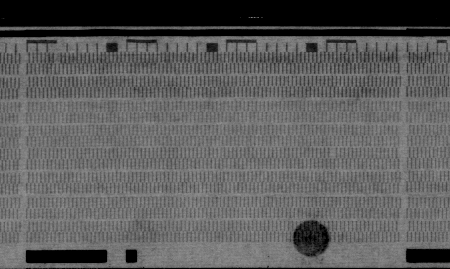Broken hole: (51, 52, 64, 65), (327, 146, 338, 159)
